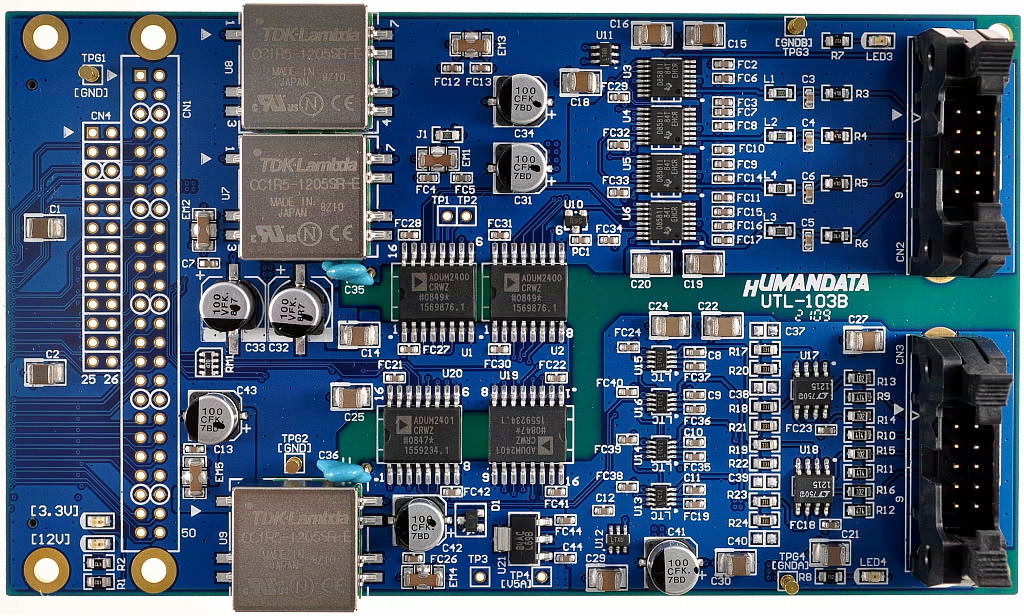capacitor C1: (22, 215, 67, 242)
capacitor C10: (682, 436, 707, 449)
capacitor C11: (682, 484, 706, 497)
capacitor C12: (593, 506, 615, 516)
capacitor C13: (183, 442, 206, 454)
capacitor C14: (337, 321, 380, 349)
capacitor C15: (684, 22, 726, 48)
capacitor C16: (632, 24, 673, 48)
capacitor C18: (560, 71, 601, 96)
capacitor C19: (685, 247, 724, 278)
capacitor C2: (22, 359, 65, 383)
capacitor C20: (631, 251, 672, 277)
capacitor C21: (811, 541, 851, 567)
capacitor C22: (702, 313, 744, 341)
capacitor C24: (650, 312, 691, 339)
capacitor C25: (330, 384, 371, 410)
capacitor C27: (846, 328, 886, 353)
capacitor C29: (588, 565, 627, 591)
capacitor C3: (803, 86, 815, 110)
capacitor C30: (717, 551, 757, 576)
capacitor C4: (803, 129, 815, 152)
capacitor C44: (555, 551, 577, 562)
capacitor C5: (803, 229, 814, 251)
capacitor C6: (804, 180, 814, 205)
capacitor C7: (197, 257, 221, 269)
capacitor C8: (683, 347, 706, 358)
capacitor C9: (684, 389, 705, 401)
capacitor FC10: (712, 145, 735, 155)
capacitor FC11: (712, 192, 735, 204)
capacitor FC12: (442, 63, 463, 73)
capacitor FC13: (470, 63, 493, 74)
capacitor FC14: (714, 174, 735, 182)
capacitor FC15: (713, 208, 735, 218)
capacitor FC16: (711, 220, 735, 231)
capacitor FC17: (711, 235, 735, 247)
capacitor FC18: (820, 518, 843, 530)
capacitor FC19: (682, 499, 706, 511)
capacitor FC2: (713, 58, 733, 70)
capacitor FC21: (385, 370, 406, 383)
capacitor FC22: (546, 372, 566, 383)
capacitor FC23: (816, 423, 837, 435)
capacitor FC24: (617, 344, 640, 355)
capacitor FC26: (404, 554, 425, 561)
capacitor FC27: (399, 344, 420, 356)
capacitor FC28: (396, 228, 421, 242)
capacitor FC29: (609, 91, 632, 104)
capacitor FC3: (715, 97, 735, 106)
capacitor FC30: (487, 342, 511, 356)
capacitor FC31: (489, 230, 511, 241)
capacitor FC32: (608, 140, 632, 153)
capacitor FC33: (608, 185, 632, 201)
capacitor FC34: (596, 235, 623, 247)
capacitor FC35: (685, 451, 706, 462)
capacitor FC36: (684, 404, 706, 414)
capacitor FC37: (684, 359, 706, 373)
capacitor FC38: (617, 482, 639, 493)
capacitor FC39: (617, 434, 640, 445)
capacitor FC4: (418, 173, 439, 184)
capacitor FC40: (617, 386, 639, 398)
capacitor FC41: (545, 485, 570, 498)
capacitor FC42: (441, 485, 462, 497)
capacitor FC44: (555, 514, 576, 526)
capacitor FC5: (452, 172, 472, 182)
capacitor FC6: (713, 75, 734, 84)
capacitor FC7: (713, 108, 735, 119)
capacitor FC8: (714, 120, 733, 132)
capacitor FC9: (711, 158, 736, 170)
capacitor PC1: (569, 234, 592, 247)
component text" "085811 B4T EHCR: (654, 157, 680, 184), (655, 61, 679, 88), (654, 206, 679, 231), (655, 110, 679, 136)
component text" "100 CFK 7BD: (511, 84, 538, 116), (512, 154, 538, 181)
component text" "100 CFK. 7BD: (199, 407, 228, 434), (411, 514, 437, 542), (666, 558, 692, 586)
component text" "100 VFK. 87: (211, 290, 243, 317)
component text" "100 VFK. 8R7: (278, 297, 307, 323)
component text" "7506 1215: (797, 381, 830, 400), (799, 480, 831, 498)
component text" "ADUM2401 CRWZ #0847 1559234.1: (495, 414, 548, 457), (403, 414, 455, 457)
component text" "B4AC L698: (514, 529, 534, 553)
component text" "TDK-LAMBDA OC1R5-1205SR-E MADE IN JAPAN 8Z10: (248, 154, 361, 220), (248, 24, 363, 88), (240, 508, 354, 572)
component text" 102: (855, 374, 866, 383), (856, 450, 866, 459), (856, 412, 865, 421), (855, 488, 865, 496)
component text" 474: (853, 431, 865, 440), (855, 393, 865, 402), (855, 469, 865, 478), (855, 507, 865, 515)
connector CN1: (120, 57, 178, 553)
connector CN2: (908, 26, 1015, 279)
connector CN3: (911, 331, 1011, 594)
connector CN4: (82, 122, 121, 372)
diode D1: (455, 504, 487, 539)
electrolytic capacitor" C31: (494, 142, 549, 193)
electrolytic capacitor" C32: (268, 275, 333, 340)
electrolytic capacitor" C33: (201, 277, 266, 342)
electrolytic capacitor" C34: (494, 77, 547, 125)
electrolytic capacitor" C35: (324, 260, 377, 286)
electrolytic capacitor" C36: (320, 461, 373, 483)
electrolytic capacitor" C41: (645, 538, 699, 591)
electrolytic capacitor" C42: (385, 492, 445, 548)
electrolytic capacitor" C43: (188, 390, 239, 443)
emi filter" EM1: (415, 146, 459, 170)
emi filter" EM2: (193, 208, 217, 251)
emi filter" EM3: (449, 32, 494, 56)
emi filter" EM4: (401, 564, 444, 590)
emi filter" EM5: (181, 458, 208, 500)
ic U1: (397, 240, 477, 347)
ic U10: (563, 211, 590, 233)
ic U11: (590, 45, 619, 67)
ic U12: (603, 524, 630, 555)
ic U13: (645, 483, 676, 509)
ic U15: (644, 345, 676, 373)
ic U16: (643, 387, 676, 413)
ic U17: (787, 361, 835, 420)
ic U18: (789, 455, 836, 517)
ic U19: (489, 383, 565, 484)
ic U2: (488, 243, 568, 343)
ic U20: (380, 382, 461, 485)
ic U21: (493, 510, 552, 566)
ic U3: (634, 57, 696, 101)
ic U4: (633, 104, 697, 150), (644, 434, 678, 463)
ic U5: (634, 151, 697, 198)
ic U6: (635, 198, 695, 246)
ic U7: (224, 135, 392, 259)
ic U8: (224, 3, 392, 129)
ic U9: (217, 479, 381, 613)
led LED1: (84, 514, 114, 529)
led LED2: (83, 536, 115, 552)
led LED3: (863, 33, 896, 49)
led LED4: (859, 570, 888, 584)
pads C37: (750, 324, 780, 339)
pads C38: (750, 380, 780, 395)
pads C39: (750, 475, 780, 489)
pads C40: (750, 532, 780, 546)
resistor J1: (432, 127, 463, 143)
resistor R1: (83, 573, 115, 591)
resistor R10: (846, 427, 874, 442)
resistor R11: (846, 464, 875, 480)
resistor R12: (844, 501, 874, 519)
resistor R13: (845, 370, 876, 386)
resistor R14: (845, 409, 874, 423)
resistor R15: (845, 446, 874, 461)
resistor R16: (843, 483, 875, 499)
resistor R17: (749, 342, 780, 357)
resistor R18: (750, 399, 781, 414)
resistor R19: (750, 438, 780, 452)
resistor R2: (82, 556, 115, 570)
resistor R20: (751, 363, 780, 376)
resistor R21: (751, 417, 780, 432)
resistor R22: (750, 456, 780, 472)
resistor R23: (749, 493, 780, 509)
resistor R24: (750, 513, 780, 527)
resistor R3: (821, 84, 852, 102)
resistor R4: (822, 128, 854, 143)
resistor R5: (822, 176, 852, 192)
resistor R6: (822, 228, 852, 243)
resistor R7: (822, 33, 853, 49)
resistor R8: (816, 568, 845, 584)
resistor R9: (846, 389, 874, 404)
resistor network" RM1: (196, 348, 221, 376)
test point" TP1: (437, 205, 457, 225)
test point" TP2: (457, 207, 476, 226)
test point" TP3: (470, 567, 489, 587)
test point" TP4: (532, 567, 552, 587)
test point" TPG1: (78, 65, 103, 85)
test point" TPG2: (284, 455, 304, 474)
test point" TPG3: (784, 16, 808, 38)
test point" TPG4: (779, 572, 799, 595)
text "2 109: (789, 308, 834, 323)
text "UTL-103B: (759, 293, 852, 310)
text "[12V]: (29, 531, 74, 549)
text "[3.3V]: (28, 501, 81, 519)
text "[GNDA]: (771, 560, 810, 569)
text "[GNDB]: (775, 37, 815, 47)
text "[GND]: (276, 441, 315, 454), (74, 87, 110, 98)
text "[V5A]: (498, 578, 534, 589)
text +: (239, 423, 254, 439), (546, 109, 561, 123), (275, 264, 287, 276), (697, 568, 707, 582), (447, 527, 455, 537)
text 1: (563, 386, 577, 404), (389, 321, 402, 335), (224, 17, 236, 29), (224, 144, 239, 152), (377, 471, 385, 486), (483, 323, 490, 336)
text 16: (564, 473, 581, 487), (373, 386, 386, 404), (387, 243, 397, 261)
text 25: (80, 372, 99, 387)
text 26: (102, 373, 120, 387)
text 3: (460, 383, 472, 399), (226, 119, 239, 129), (227, 242, 237, 251)
text 4: (383, 118, 395, 128)
text 43: (242, 383, 259, 399)
text 50: (179, 525, 200, 542)
text 6: (554, 226, 564, 237), (475, 234, 483, 247)
text 7: (387, 16, 403, 31), (383, 142, 401, 155)
text 8: (477, 383, 490, 403), (562, 324, 576, 342), (462, 459, 473, 473)
text 9: (891, 190, 903, 201), (894, 494, 905, 505), (480, 470, 489, 483)
text C1: (47, 201, 62, 215)
text C10: (682, 425, 706, 436)
text C11: (683, 472, 701, 483)
text C12: (593, 491, 617, 503)
text C13: (210, 443, 236, 456)
text C14: (359, 347, 384, 360)
text C15: (728, 39, 749, 50)
text C16: (608, 18, 630, 27)
text C18: (567, 96, 591, 109)
text C19: (683, 278, 705, 290)
text C2: (45, 346, 62, 361)
text C20: (631, 278, 652, 291)
text C21: (838, 529, 860, 540)
text C22: (697, 301, 720, 311)
text C24: (648, 300, 670, 312)
text C25: (344, 411, 366, 424)
text C27: (847, 313, 868, 325)
text C29: (585, 553, 606, 564)
text C3: (801, 72, 816, 84)
text C30: (710, 573, 732, 588)
text C31: (510, 194, 536, 208)
text C32: (270, 341, 292, 356)
text C33: (244, 341, 267, 356)
text C34: (512, 125, 537, 141)
text C35: (343, 283, 366, 296)
text C36: (316, 449, 342, 461)
text C37: (784, 325, 808, 337)
text C38: (728, 388, 749, 401)
text C39: (726, 472, 750, 483)
text C40: (726, 534, 750, 547)
text C41: (666, 526, 687, 537)
text C42: (440, 541, 465, 553)
text C44: (562, 541, 584, 554)
text C7: (180, 256, 196, 269)
text C8: (709, 350, 723, 361)
text C9: (708, 388, 723, 400)
text CN1: (180, 94, 196, 123)
text CN2: (892, 239, 907, 266)
text CN3: (894, 343, 905, 368)
text CN4: (90, 110, 113, 122)
text D1: (490, 498, 501, 511)
text EM1: (461, 148, 474, 168)
text EM2: (179, 197, 192, 221)
text EM3: (497, 32, 507, 61)
text EM4: (446, 566, 460, 590)
text EM5: (214, 458, 226, 487)
text FC10: (738, 141, 766, 155)
text FC11: (735, 192, 761, 204)
text FC12: (432, 75, 463, 90)
text FC13: (463, 74, 494, 91)
text FC14: (736, 171, 764, 184)
text FC15: (735, 207, 763, 217)
text FC16: (734, 220, 767, 231)
text FC17: (735, 233, 763, 246)
text FC18: (787, 518, 817, 532)
text FC19: (681, 509, 711, 523)
text FC2: (735, 58, 759, 71)
text FC21: (376, 358, 407, 373)
text FC22: (536, 358, 569, 372)
text FC24: (612, 326, 644, 339)
text FC26: (428, 554, 463, 565)
text FC27: (421, 342, 452, 356)
text FC28: (782, 420, 816, 434), (393, 216, 422, 230)
text FC29: (600, 80, 630, 91)
text FC3: (737, 97, 758, 106)
text FC30: (483, 359, 516, 370)
text FC31: (485, 215, 514, 230)
text FC32: (600, 125, 630, 138)
text FC33: (601, 174, 630, 185)
text FC34: (593, 223, 627, 234)
text FC35: (681, 461, 714, 472)
text FC36: (684, 415, 713, 428)
text FC37: (681, 371, 715, 383)
text FC38: (594, 469, 624, 482)
text FC39: (593, 443, 621, 456)
text FC4: (411, 181, 442, 195)
text FC40: (594, 376, 624, 389)
text FC41: (543, 499, 571, 509)
text FC42: (462, 484, 491, 497)
text FC44: (553, 526, 584, 537)
text FC5: (451, 182, 479, 194)
text FC6: (735, 72, 759, 85)
text FC7: (737, 106, 758, 117)
text FC8: (735, 119, 759, 131)
text FC9: (735, 158, 759, 171)
text HUMANDATA: (742, 273, 871, 300)
text J1: (412, 125, 429, 142)
text L1: (763, 72, 775, 84)
text L2: (763, 116, 777, 128)
text LED3: (863, 50, 894, 62)
text LED4: (857, 555, 888, 567)
text LTC: (650, 414, 674, 427), (651, 370, 672, 384), (651, 462, 675, 474), (650, 510, 673, 522)
text PC1: (569, 246, 591, 257)
text R1: (117, 577, 128, 590)
text R10: (875, 430, 897, 441)
text R11: (876, 464, 896, 475)
text R12: (876, 504, 897, 517)
text R13: (877, 377, 897, 389)
text R14: (873, 414, 897, 427)
text R15: (876, 445, 897, 456)
text R16: (875, 485, 895, 495)
text R17: (724, 343, 749, 358)
text R18: (726, 402, 749, 415)
text R19: (727, 444, 748, 456)
text R2: (115, 556, 128, 573)
text R20: (726, 362, 749, 376)
text R21: (727, 421, 747, 434)
text R22: (727, 458, 749, 471)
text R23: (726, 488, 749, 502)
text R24: (728, 518, 748, 527)
text R3: (853, 88, 871, 100)
text R4: (853, 130, 869, 143)
text R5: (852, 175, 869, 189)
text R6: (853, 237, 870, 250)
text R7: (829, 50, 847, 62)
text R8: (799, 571, 811, 582)
text R9: (876, 391, 891, 402)
text RM1: (225, 351, 238, 377)
text TP1: (429, 195, 455, 207)
text TP2: (452, 195, 480, 208)
text TP3: (466, 552, 490, 565)
text TP4: (509, 569, 529, 579)
text TPG1: (80, 49, 107, 65)
text TPG2: (278, 432, 311, 443)
text TPG3: (781, 47, 811, 58)
text TPG4: (778, 549, 808, 559)
text U1: (460, 346, 474, 358)
text U11: (594, 29, 614, 41)
text U12: (593, 527, 605, 549)
text U13: (633, 496, 643, 518)
text U14: (633, 444, 644, 466)
text U15: (632, 355, 645, 377)
text U16: (634, 397, 643, 421)
text U17: (799, 349, 820, 362)
text U18: (798, 443, 820, 457)
text U19: (497, 369, 520, 382)
text U2: (549, 345, 567, 358)
text U20: (440, 367, 465, 380)
text U21: (495, 554, 508, 577)
text U3: (622, 64, 634, 79)
text U4: (620, 108, 632, 125)
text U5: (620, 155, 633, 172)
text U6: (620, 204, 633, 223)
text U7: (221, 188, 232, 203)
text U8: (222, 57, 233, 77)
text U9: (218, 529, 228, 549)
text triangle: (56, 121, 76, 143), (195, 24, 218, 43), (103, 67, 120, 85), (200, 150, 213, 171), (891, 402, 905, 416), (890, 108, 904, 120)
unknown L1: (764, 84, 796, 102)
unknown L2: (765, 128, 796, 145)
unknown L3: (764, 226, 796, 238)
unknown L4: (764, 181, 797, 197)
